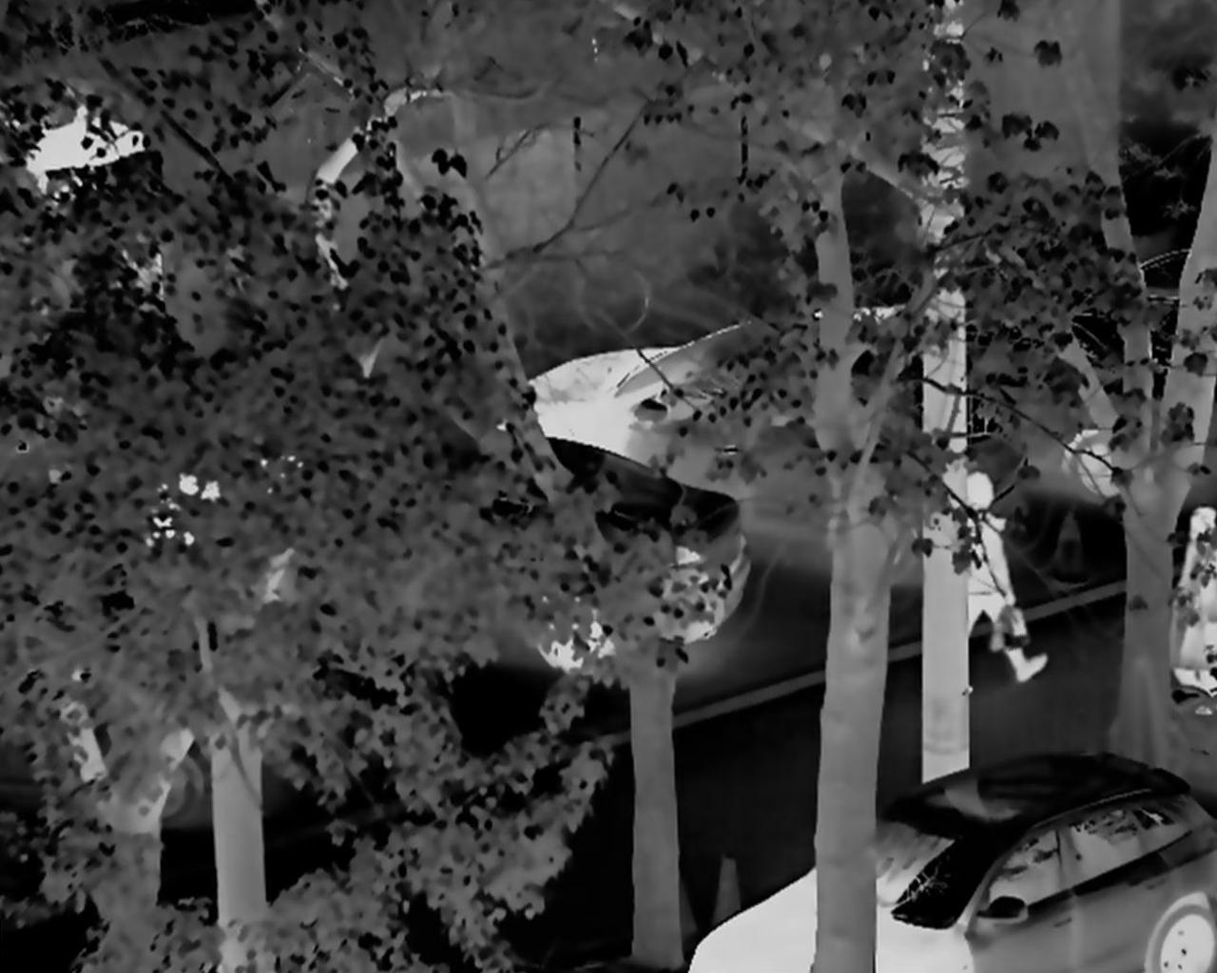person: (932, 467, 1052, 695)
